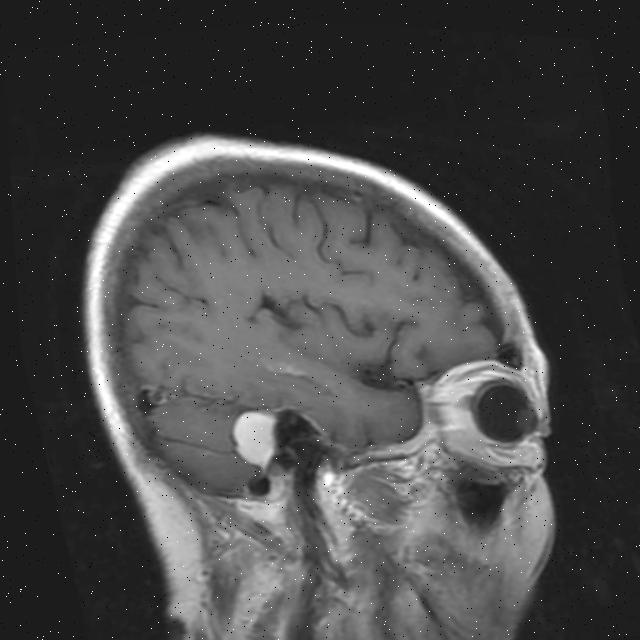Meningioma: (220, 401, 288, 473)
